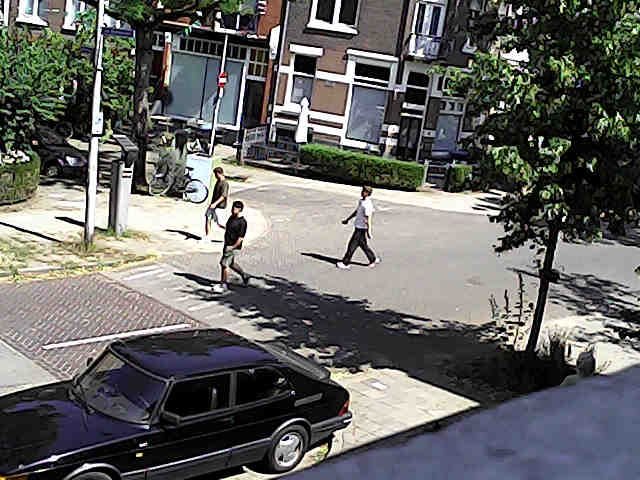male: (337, 186, 379, 268), (213, 200, 249, 292), (203, 166, 229, 239), (561, 350, 595, 385)
suv: (0, 329, 350, 479)
